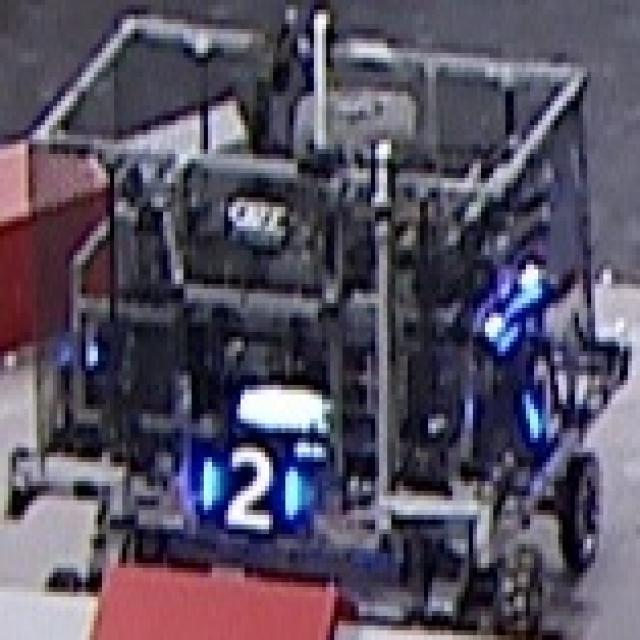B2: (196, 433, 302, 529), (518, 347, 570, 448)
